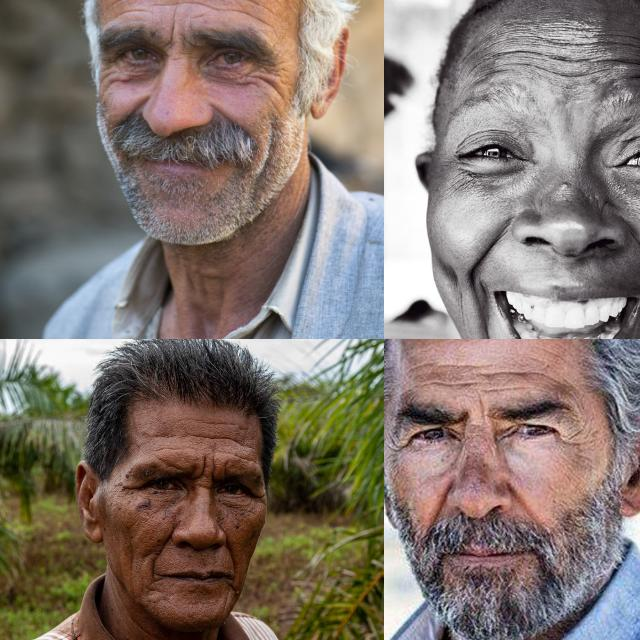chin: (220, 594, 230, 616), (142, 583, 158, 593)
crows_feet: (250, 56, 288, 92), (90, 57, 126, 87), (558, 426, 590, 448), (384, 425, 404, 457), (118, 478, 138, 498), (251, 488, 267, 504)
forehead: (481, 38, 553, 82), (566, 50, 640, 89), (486, 364, 556, 394), (420, 362, 478, 392), (235, 7, 275, 33), (189, 426, 237, 444), (163, 0, 207, 17), (191, 417, 237, 431), (115, 0, 145, 19), (148, 440, 178, 456), (229, 450, 261, 464), (231, 0, 273, 8)
frown_line: (160, 12, 182, 50), (197, 454, 215, 480), (476, 396, 490, 426)
gummy_smile: (468, 217, 512, 270), (423, 477, 453, 525), (212, 102, 244, 134), (508, 484, 534, 520), (626, 223, 640, 280), (122, 93, 146, 123), (152, 530, 172, 564), (225, 542, 241, 566)
masseter: (256, 117, 280, 179)
sad_smile: (470, 303, 502, 339)
